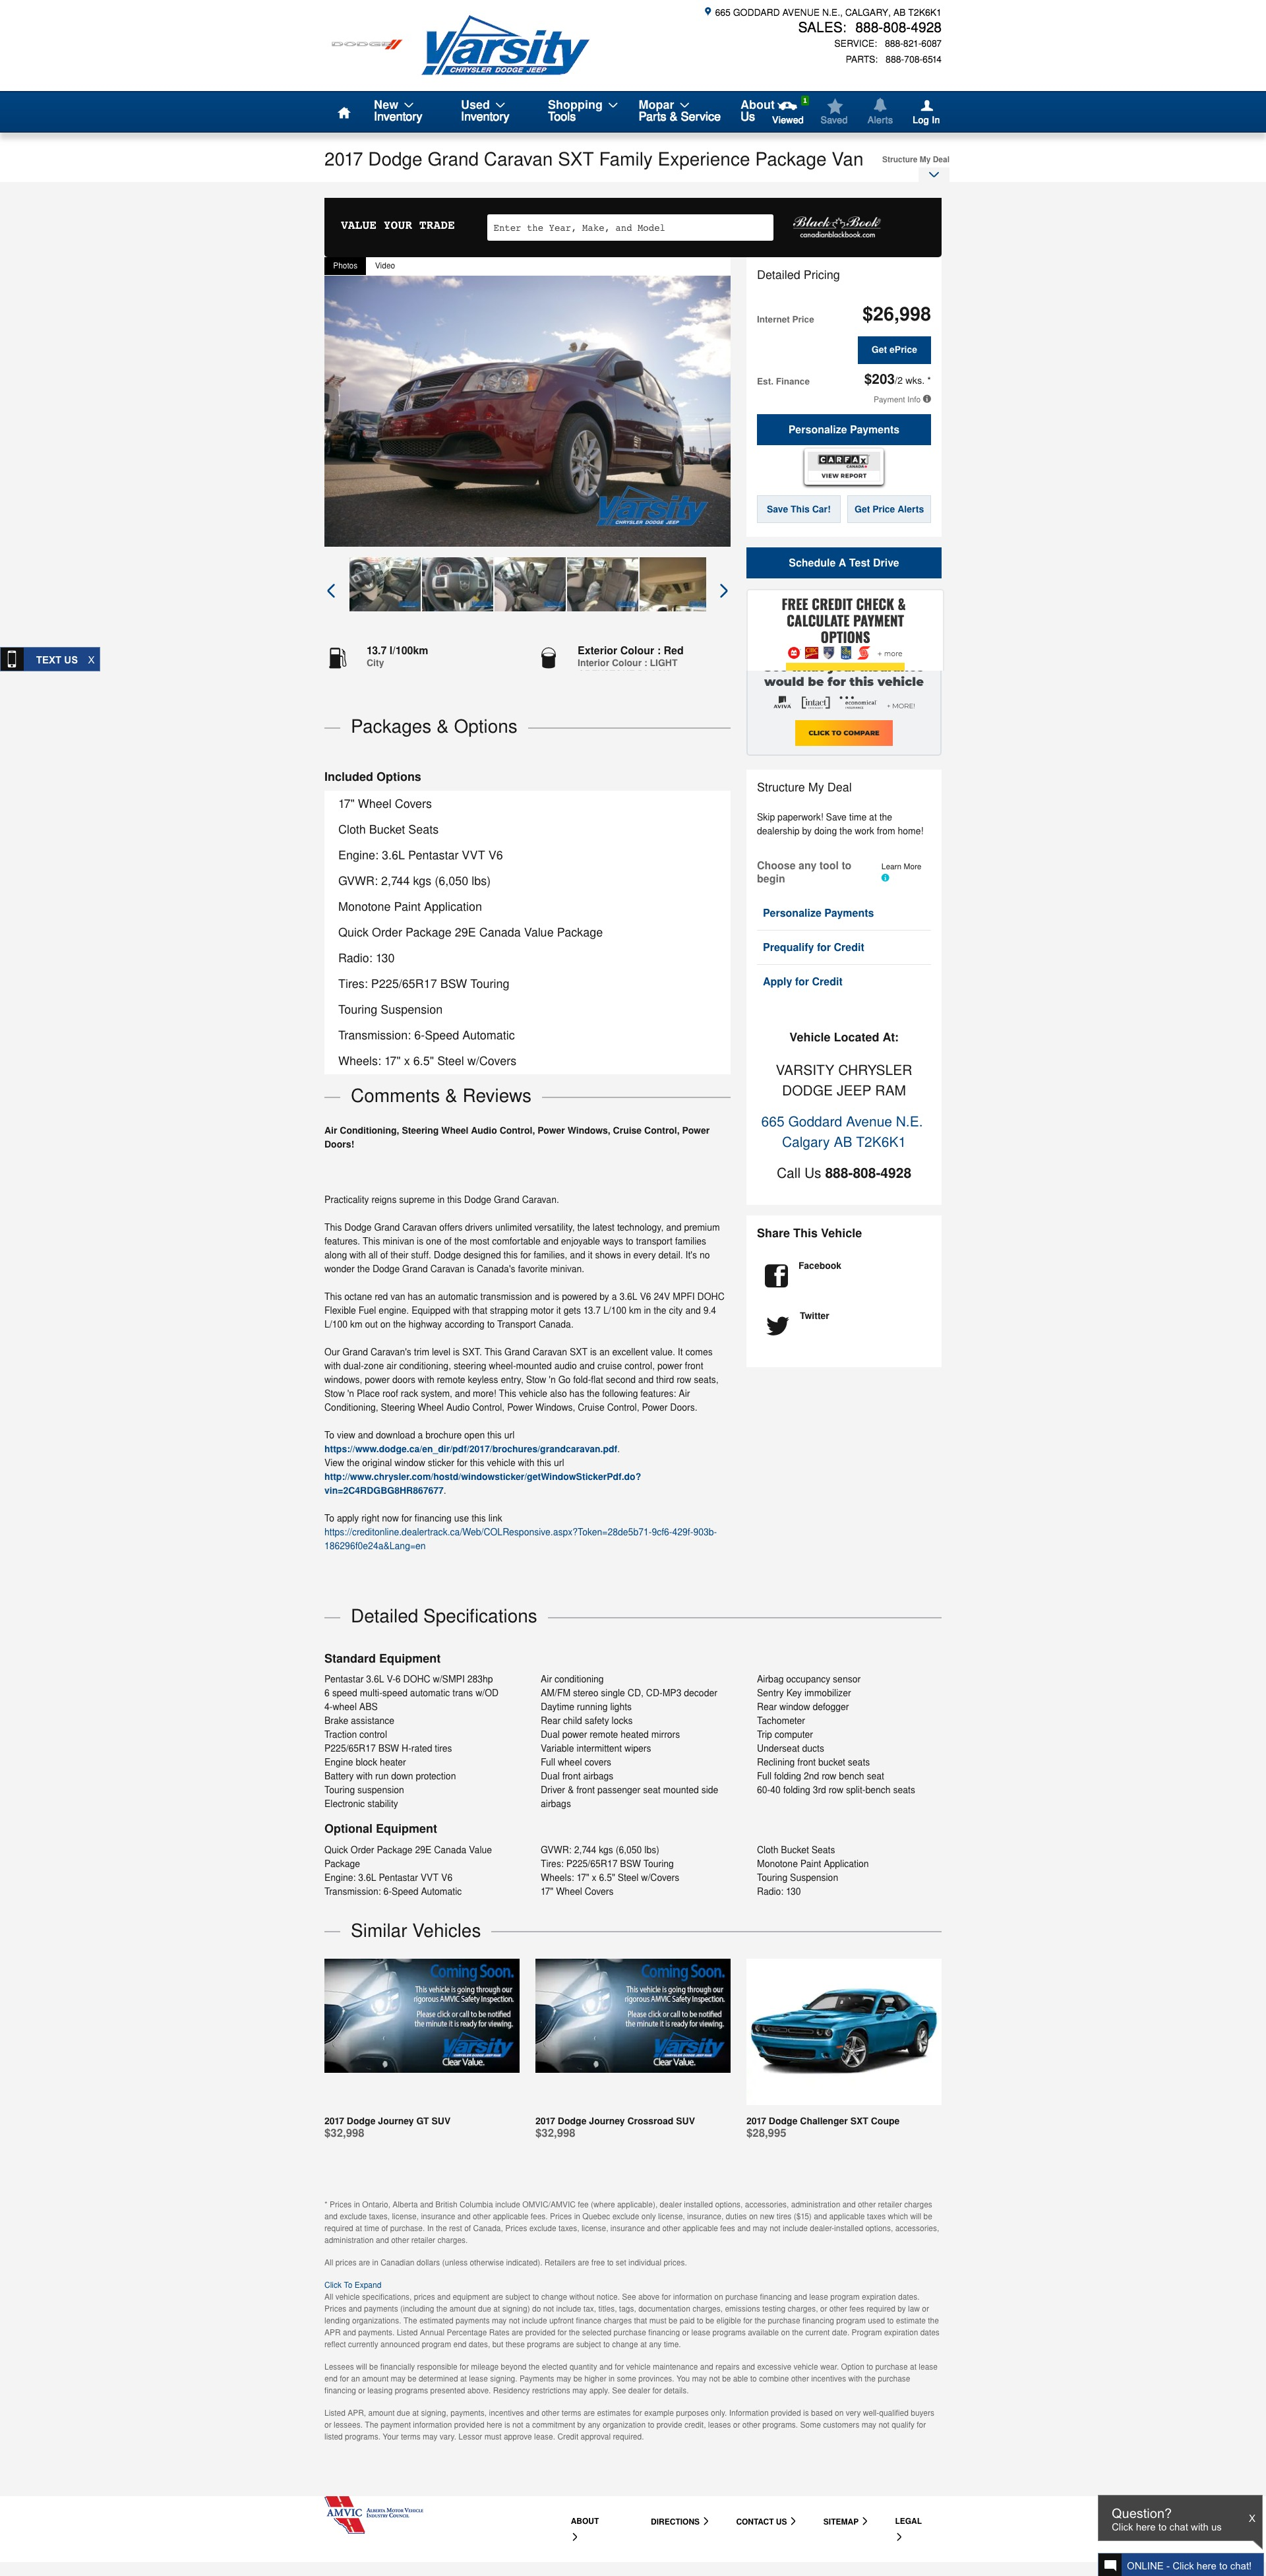car: (719, 585, 729, 600)
